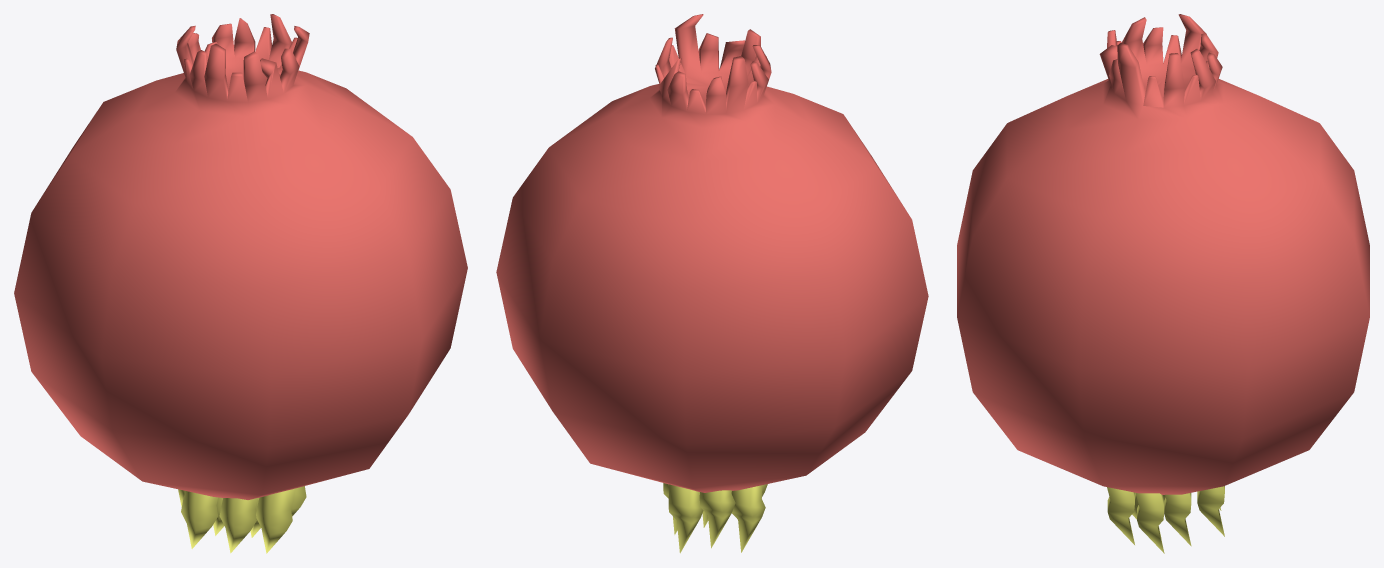
Rendered from SM_Onion.fbx.
3 renders of one model, left to right at view 1: azimuth 30°, elevation 25°; view 2: azimuth 150°, elevation 25°; view 3: azimuth 270°, elevation 25°, orthographic. The views are drawn at different scales.
Visible parts, largest first — view 1: SM_Onion; view 2: SM_Onion; view 3: SM_Onion.
Part boxes in pixels (x1,y1,x2,y2): SM_Onion: (14, 14, 467, 553); SM_Onion: (496, 14, 928, 553); SM_Onion: (957, 14, 1369, 553).
Size of the model in its own units: 83.96 by 115 by 83.96.
